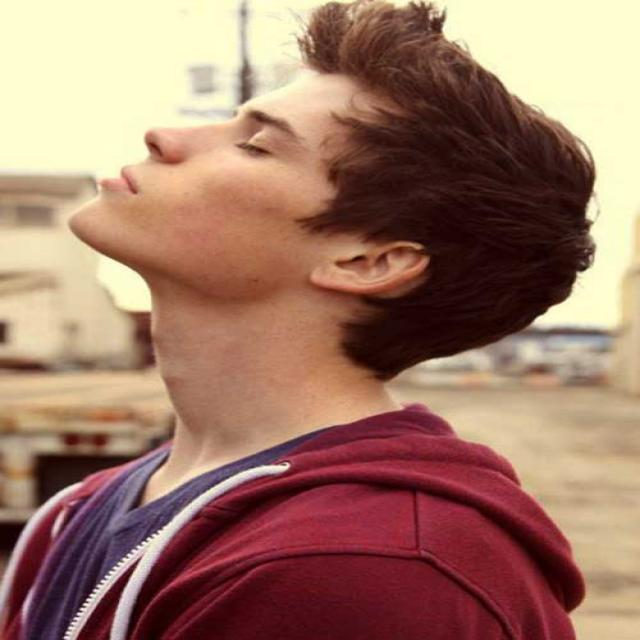earlobe: (313, 266, 349, 292)
eye: (233, 134, 284, 160)
nose: (128, 140, 176, 176)
wholeear: (314, 240, 432, 292)
